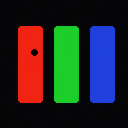0 point: (31, 49, 37, 55)
